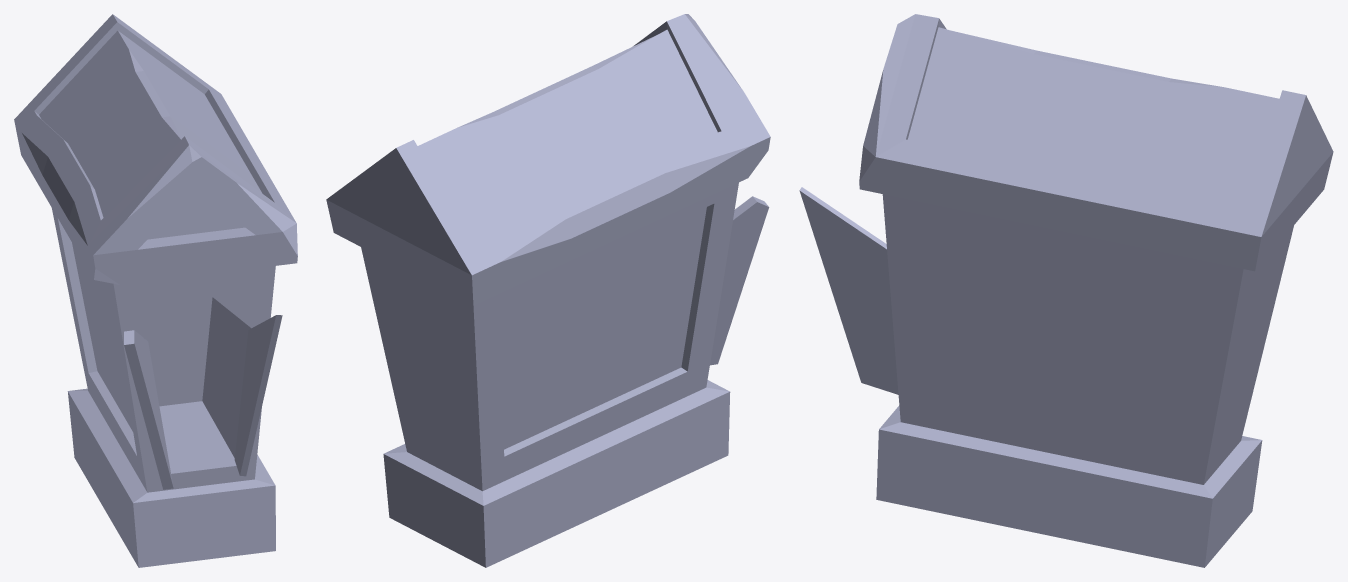
The model's file is mausoleum.glb.
3 views of the same model, side by side, from view 1: azimuth 30°, elevation 25°; view 2: azimuth 150°, elevation 25°; view 3: azimuth 270°, elevation 25° (orthographic). The views are drawn at different scales.
Visible parts, largest first — view 1: Mausoleum; view 2: Mausoleum; view 3: Mausoleum.
Boxes of the visible parts, <box> form: Mausoleum: <box>14,14,297,567</box>; Mausoleum: <box>326,14,770,567</box>; Mausoleum: <box>799,14,1333,567</box>.
Bounding box in the file's own units: 3.77 × 5.6 × 5.69.
